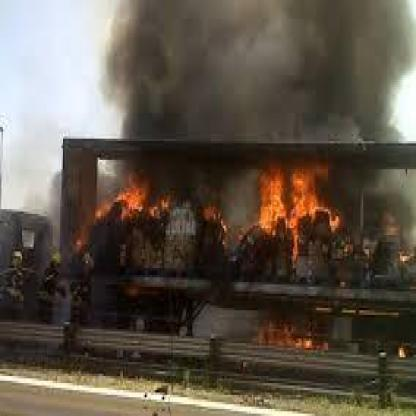fire: (86, 174, 354, 258), (254, 318, 337, 367), (387, 341, 406, 359)
smoke: (88, 5, 404, 142)
